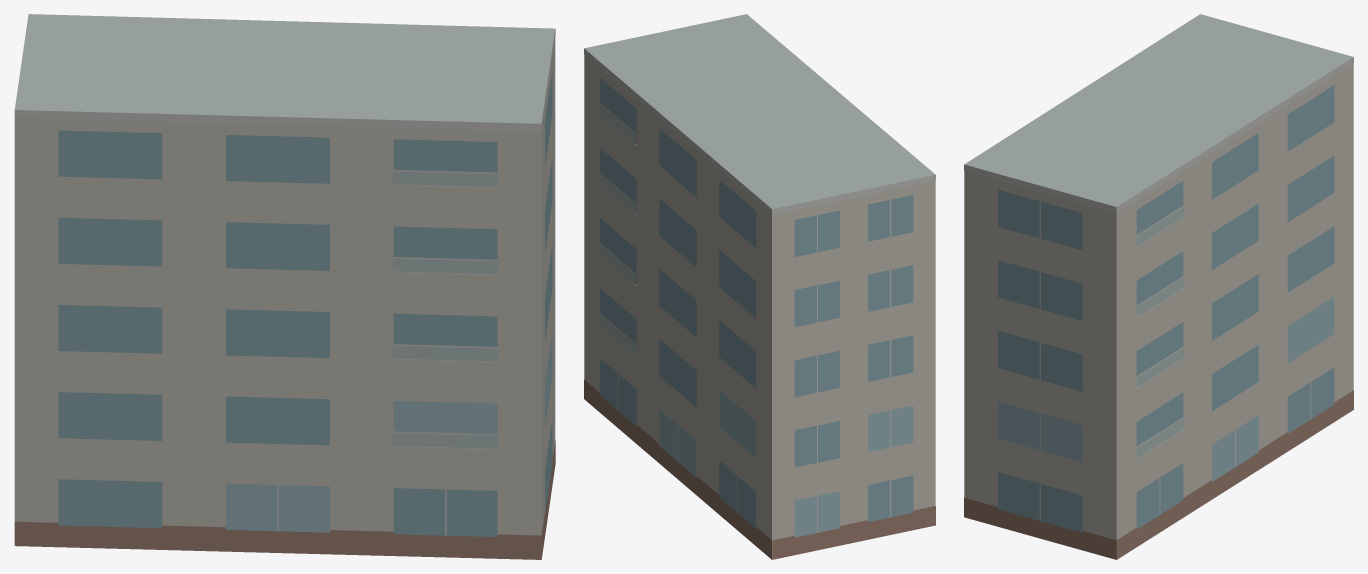
File: survey-upis-32950306.glb
3 views of the same model, side by side, from view 1: azimuth 30°, elevation 25°; view 2: azimuth 150°, elevation 25°; view 3: azimuth 270°, elevation 25° (orthographic). The views are drawn at different scales.
Parts seen in each view (by area): view 1: survey-upis-32950306.tmp; view 2: survey-upis-32950306.tmp; view 3: survey-upis-32950306.tmp.
Part boxes in pixels (<box>): survey-upis-32950306.tmp: <box>14,14,555,559</box>; survey-upis-32950306.tmp: <box>584,14,935,559</box>; survey-upis-32950306.tmp: <box>964,14,1353,559</box>.
Size of the model in its own units: 16.67 by 14.2 by 14.22.
